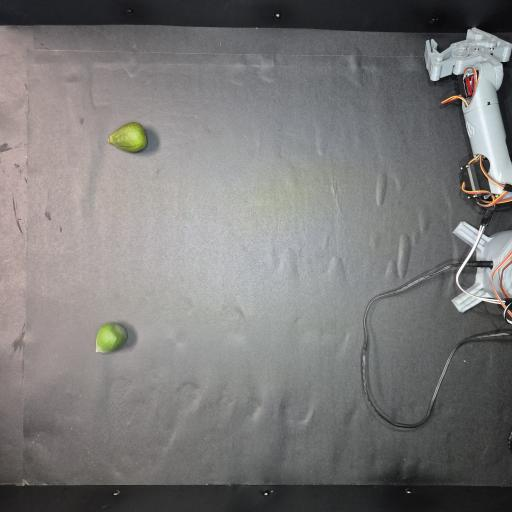higo: (108, 122, 147, 152), (96, 323, 127, 353)
